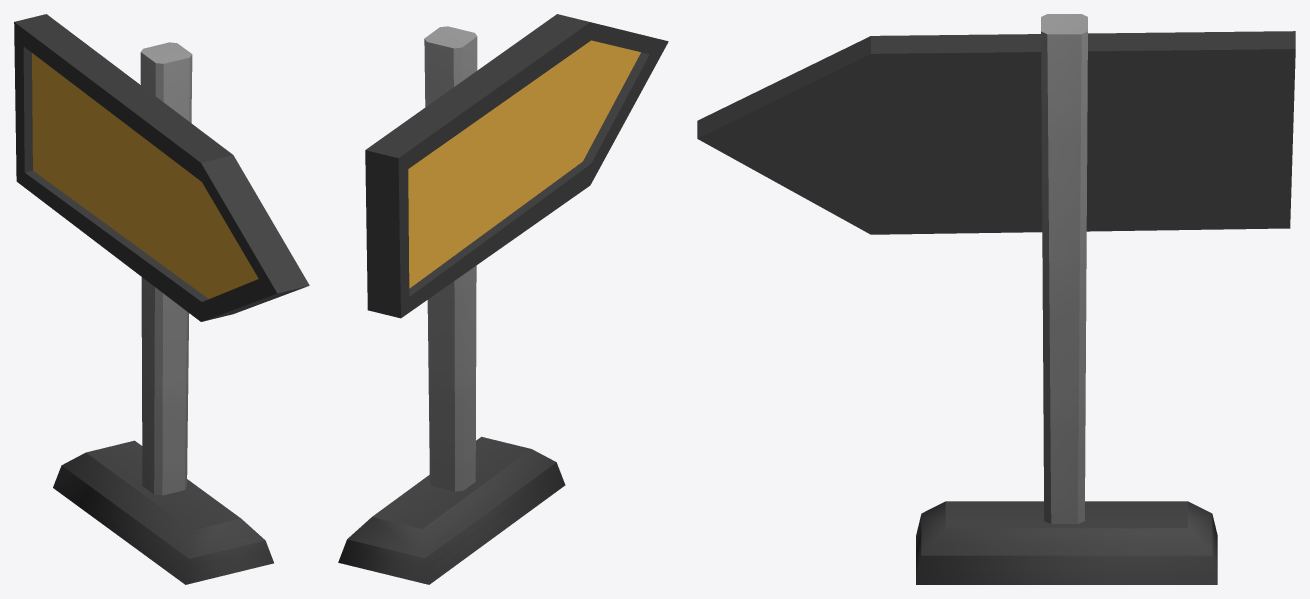
File: LineCh_1_2.fbx
3 views of the same model, side by side, from view 1: azimuth 30°, elevation 25°; view 2: azimuth 150°, elevation 25°; view 3: azimuth 270°, elevation 25° (orthographic). The views are drawn at different scales.
Parts seen in each view (by area): view 1: LineCh_1_2; view 2: LineCh_1_2; view 3: LineCh_1_2.
Boxes of the visible parts, x1,y1,x2,y2 form: LineCh_1_2: [14, 14, 309, 584]; LineCh_1_2: [338, 14, 668, 584]; LineCh_1_2: [697, 14, 1295, 584].
Size of the model in its own units: 21.86 by 106 by 107.
